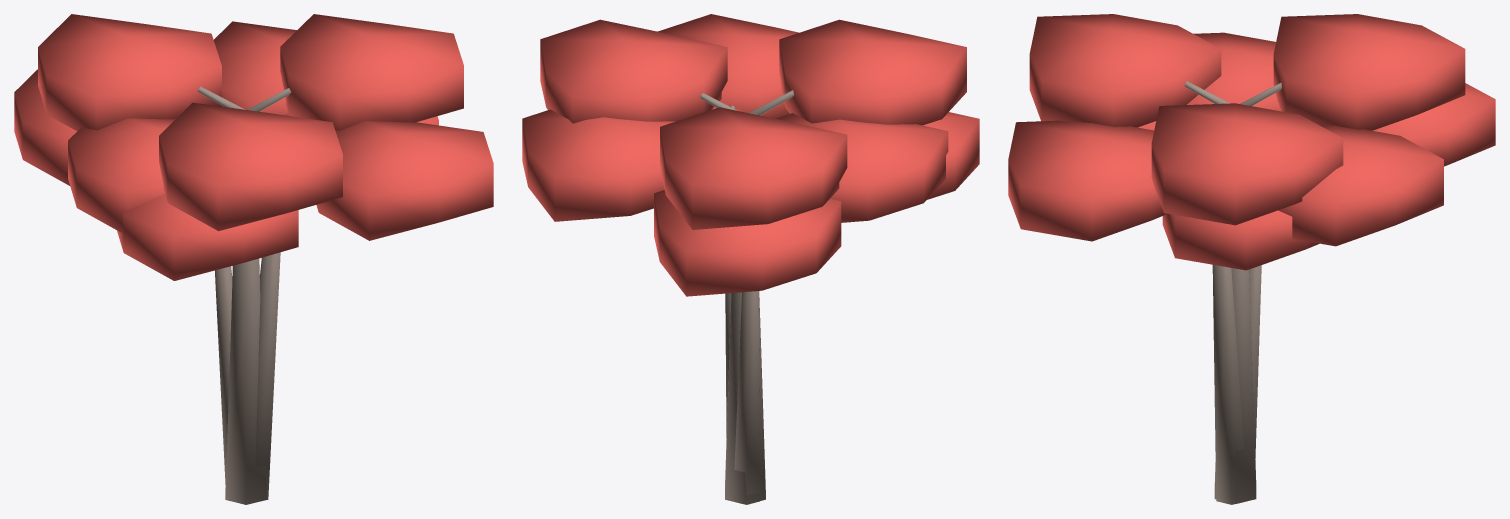
File: tree_red_maple.glb
3 views of the same model, side by side, from view 1: azimuth 30°, elevation 25°; view 2: azimuth 150°, elevation 25°; view 3: azimuth 270°, elevation 25° (orthographic). The views are drawn at different scales.
Visible parts, largest first — view 1: Flora_Red_Maple; view 2: Flora_Red_Maple; view 3: Flora_Red_Maple.
Part boxes in pixels (x1=…): Flora_Red_Maple: x1=14, y1=14, x2=493, y2=504; Flora_Red_Maple: x1=522, y1=14, x2=979, y2=504; Flora_Red_Maple: x1=1008, y1=14, x2=1495, y2=504.
Bounding box in the file's own units: 4.42 × 4.76 × 4.84.
